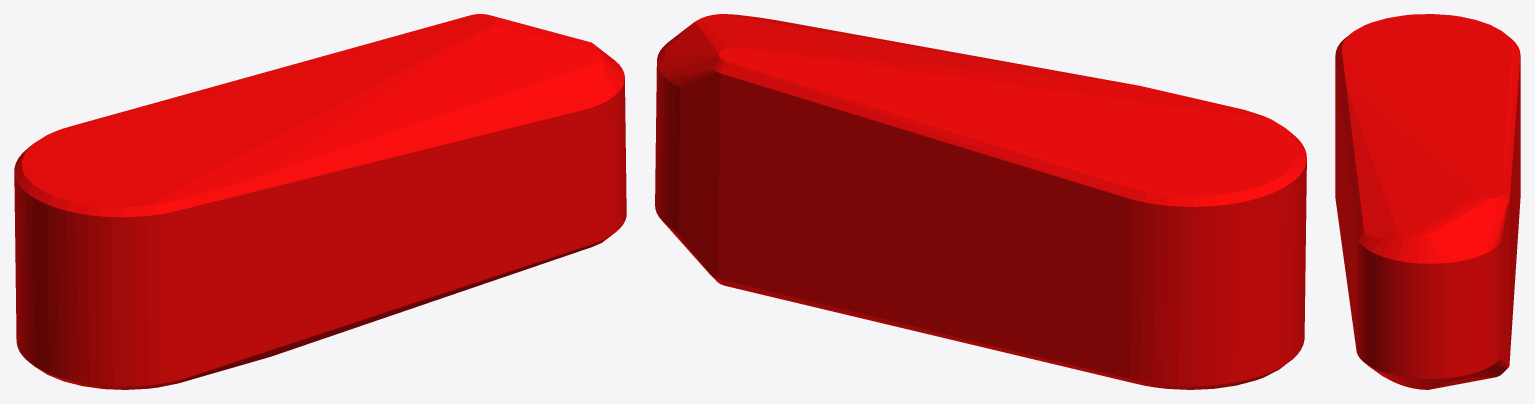
File: col_proximal_phalanx.glb
The picture shows the model from 3 angles, left to right: view 1: azimuth 30°, elevation 25°; view 2: azimuth 150°, elevation 25°; view 3: azimuth 270°, elevation 25°; orthographic projection. The views are drawn at different scales.
Visible parts, largest first — view 1: col_proximal_phalanx; view 2: col_proximal_phalanx; view 3: col_proximal_phalanx.
Boxes of the visible parts, <box> form: col_proximal_phalanx: <box>14,14,626,389</box>; col_proximal_phalanx: <box>655,14,1306,389</box>; col_proximal_phalanx: <box>1335,14,1520,389</box>.
Bounding box in the file's own units: 0.0923 × 0.0319 × 0.03.
